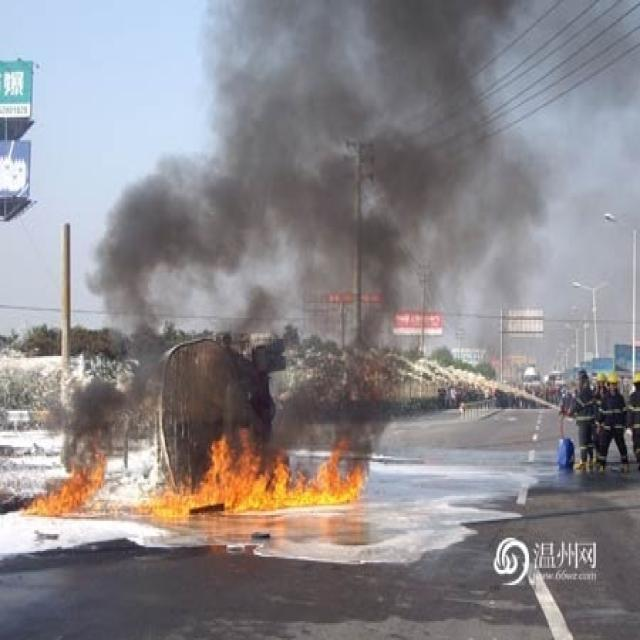Fire: (135, 426, 368, 519), (21, 460, 107, 515)
Smoke: (47, 2, 559, 481)
